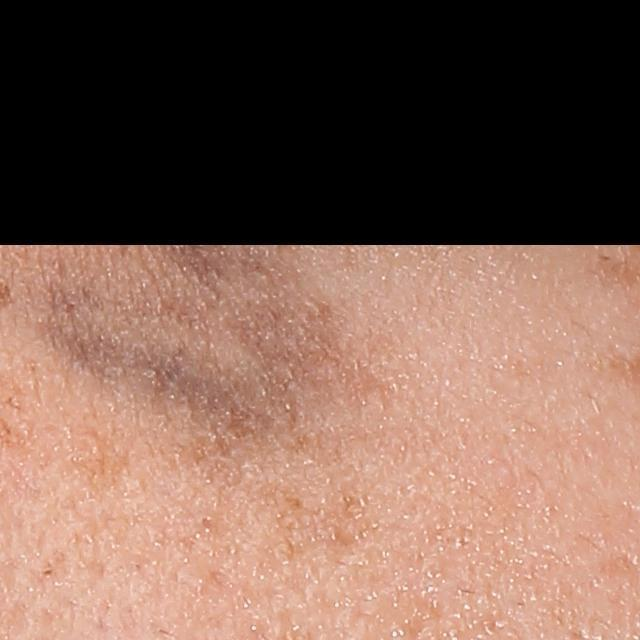melasma: (23, 180, 392, 475), (253, 481, 396, 572)
